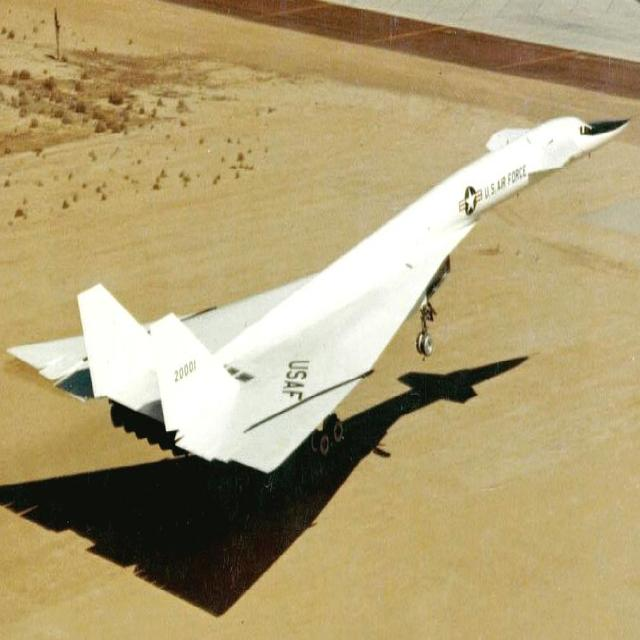MIL_Plane: (5, 112, 639, 477)
